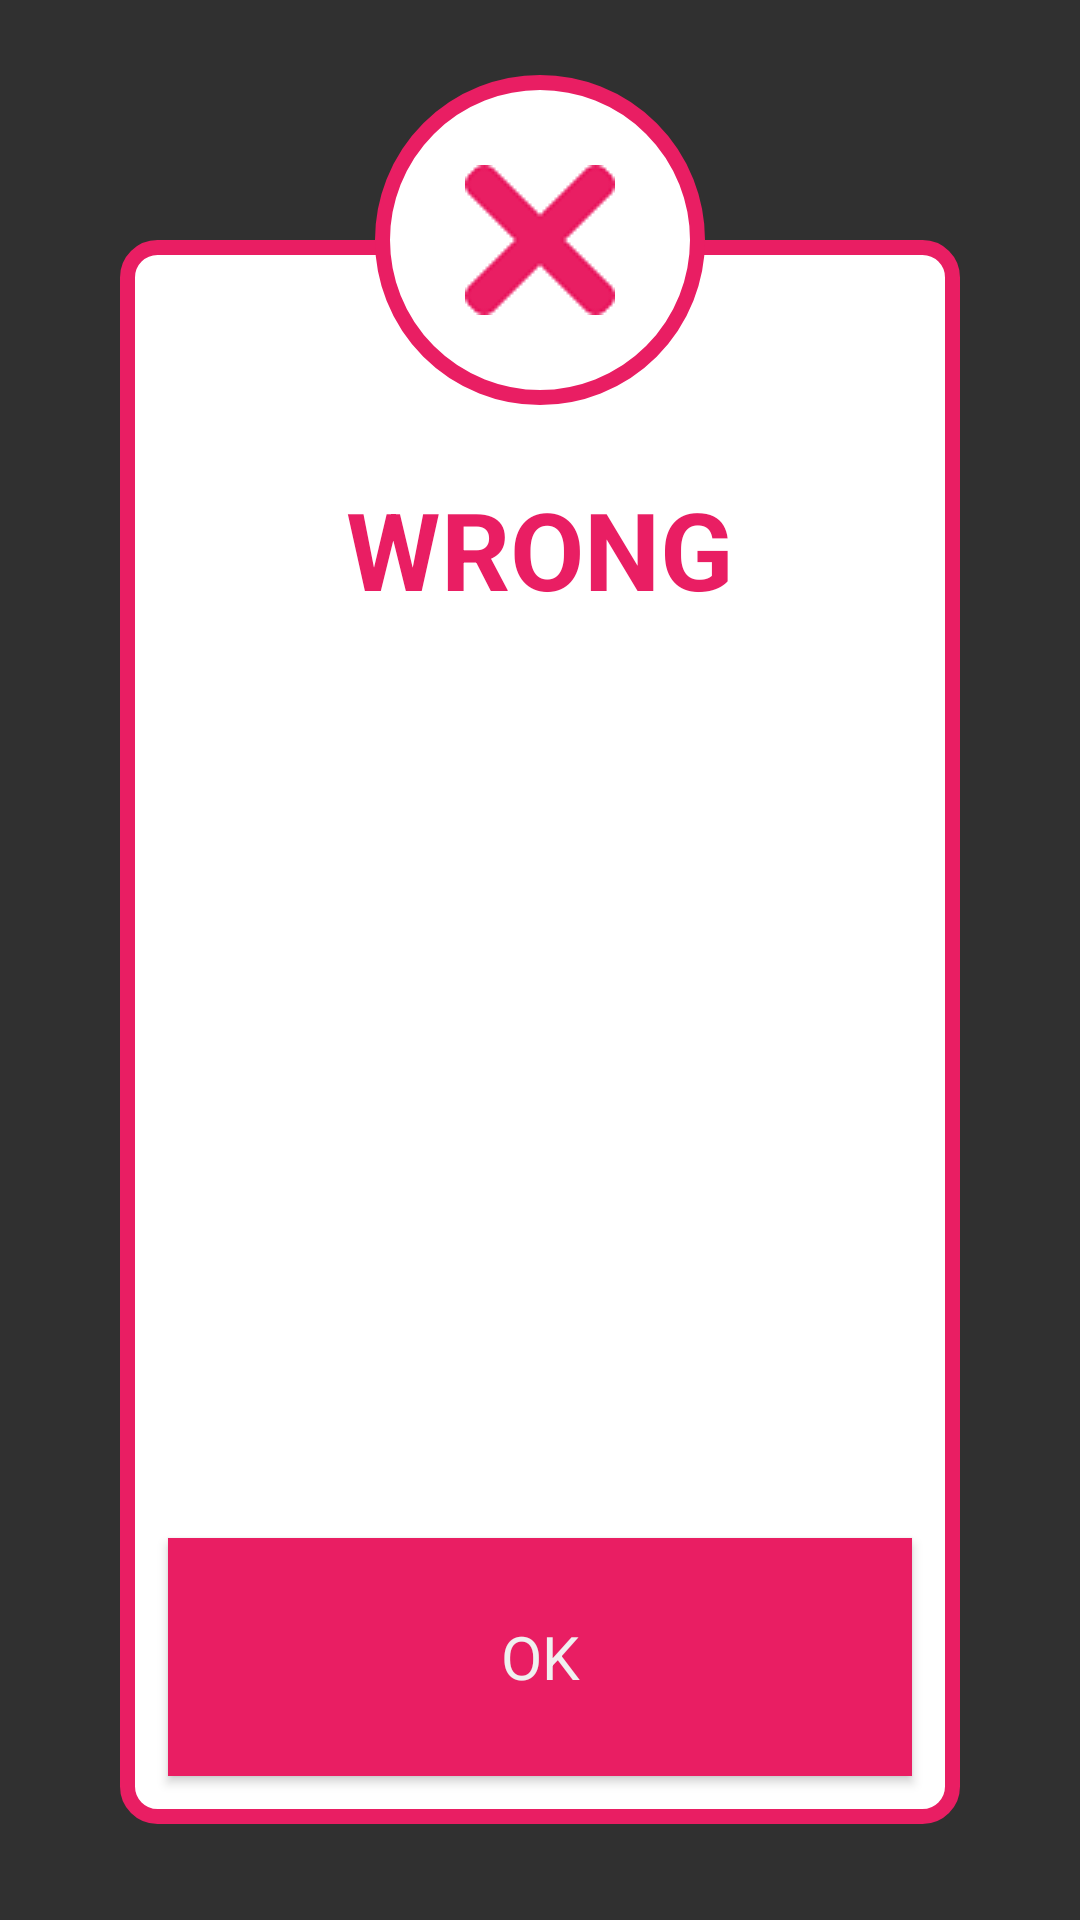

Screen size 1080px x 1920px. Icon name, then its center in pixels as (x=x, y=y):
cancel: (x=540, y=240)
